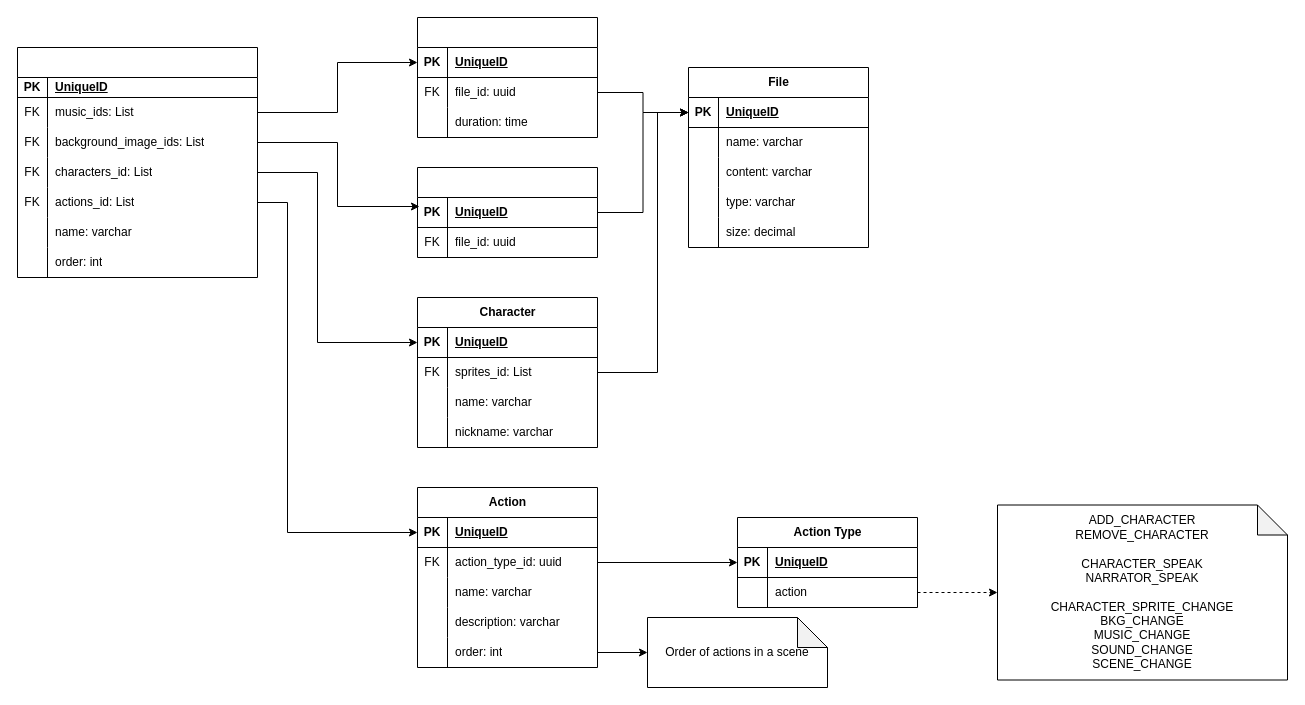
The diagram is 1305 pixels wide and 705 high, and some of its shapes have lost their labels. Here are the shapes that lost their labels. From the top down, the box of each, then its label:
(416, 16, 598, 138): Music
(16, 46, 258, 278): Scene
(416, 166, 598, 258): Background Image
